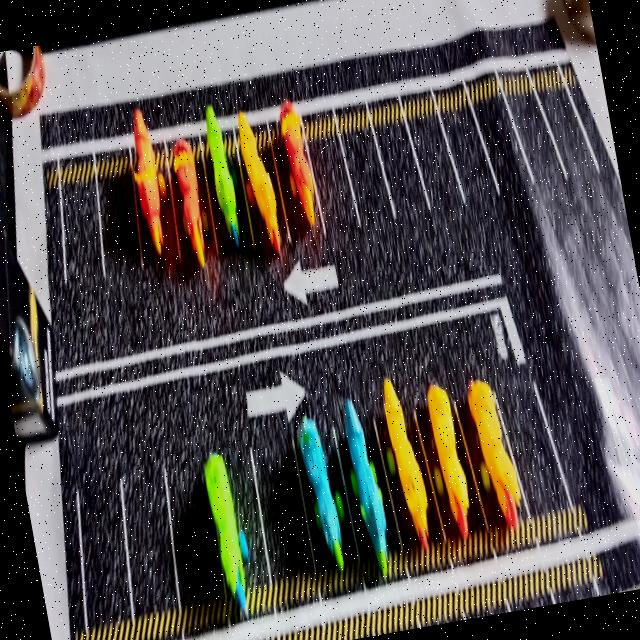occupied: (374, 378, 445, 550), (337, 398, 401, 577), (416, 385, 486, 538), (204, 451, 268, 611), (296, 414, 358, 570), (458, 379, 521, 530), (238, 112, 290, 257), (133, 109, 179, 269), (204, 104, 253, 249), (276, 99, 320, 236), (171, 138, 217, 269)
others: (0, 226, 57, 441), (0, 45, 44, 117), (547, 0, 596, 43)
slots: (495, 377, 568, 515), (252, 425, 313, 579), (122, 455, 176, 613), (169, 455, 223, 605), (81, 472, 130, 626), (474, 96, 532, 206), (408, 116, 464, 217), (441, 109, 495, 211), (307, 131, 358, 236), (540, 90, 597, 180), (375, 123, 424, 227), (343, 131, 393, 224), (511, 96, 564, 179), (99, 171, 140, 273), (63, 182, 101, 280)
